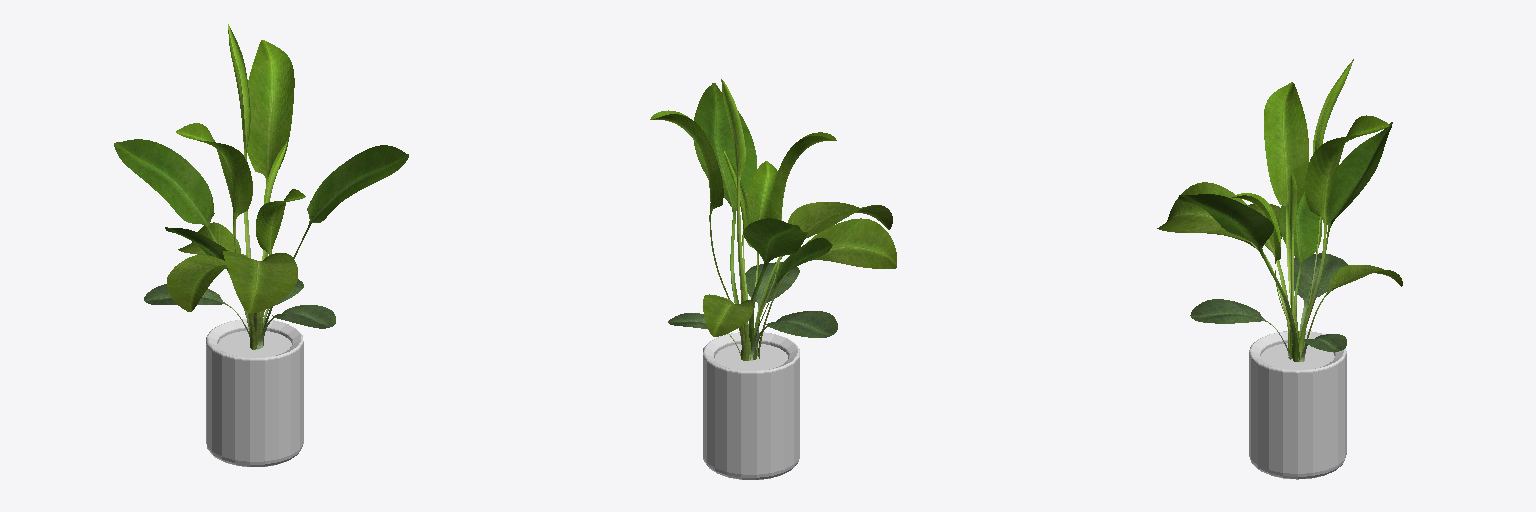
The picture shows the model from 3 angles: view 1: azimuth 30°, elevation 25°; view 2: azimuth 150°, elevation 25°; view 3: azimuth 270°, elevation 25°; orthographic projection.
Parts seen in each view (by area): view 1: plant_lambert2_0, concrete_pot_lambert3_0; view 2: plant_lambert2_0, concrete_pot_lambert3_0; view 3: plant_lambert2_0, concrete_pot_lambert3_0.
Boxes of the visible parts, <box> form: plant_lambert2_0: <box>114,24,408,349</box>; concrete_pot_lambert3_0: <box>206,319,303,466</box>; plant_lambert2_0: <box>650,79,896,360</box>; concrete_pot_lambert3_0: <box>703,332,799,479</box>; plant_lambert2_0: <box>1157,59,1402,361</box>; concrete_pot_lambert3_0: <box>1249,331,1346,479</box>.
Bounding box in the file's own units: 0.9757 × 1.81 × 0.9984.
2 materials, 1 textured.